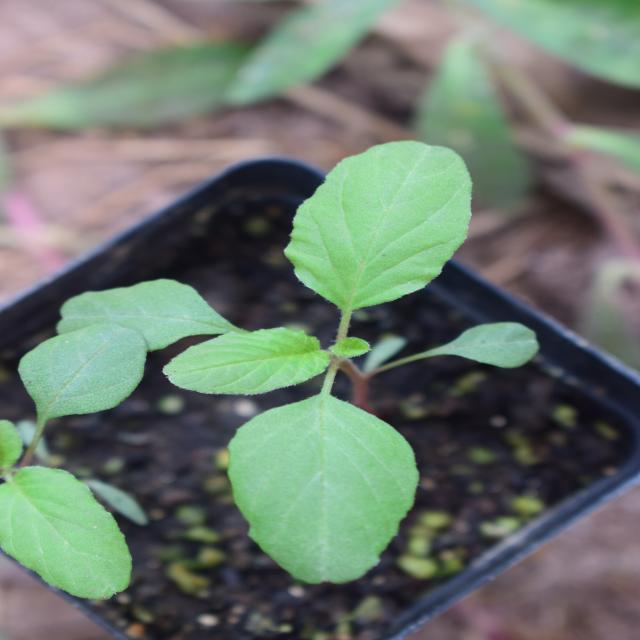pigweed: (62, 213, 501, 495)
